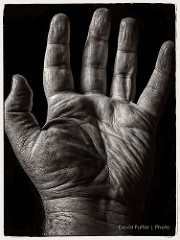palm: (41, 101, 155, 194)
